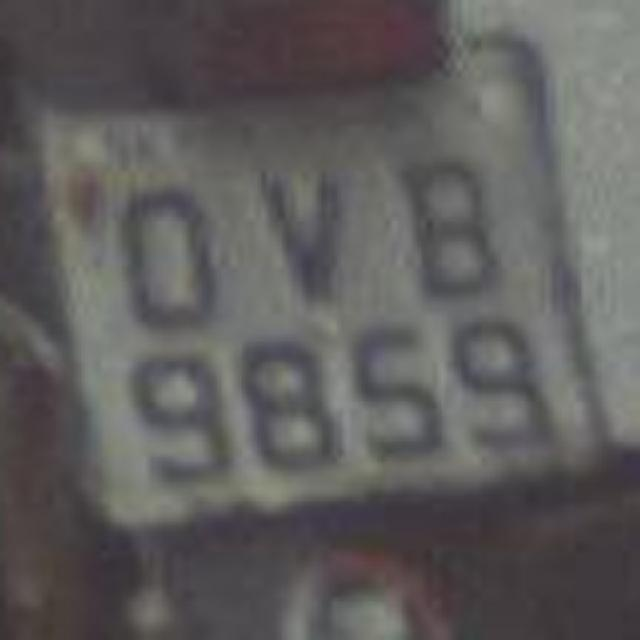3: (280, 552, 415, 632)
5: (332, 304, 460, 468)
8: (229, 316, 356, 492)
9: (116, 328, 249, 508), (440, 280, 560, 460)
B: (384, 129, 516, 316)
O: (95, 164, 240, 348)
V: (240, 144, 372, 316)
